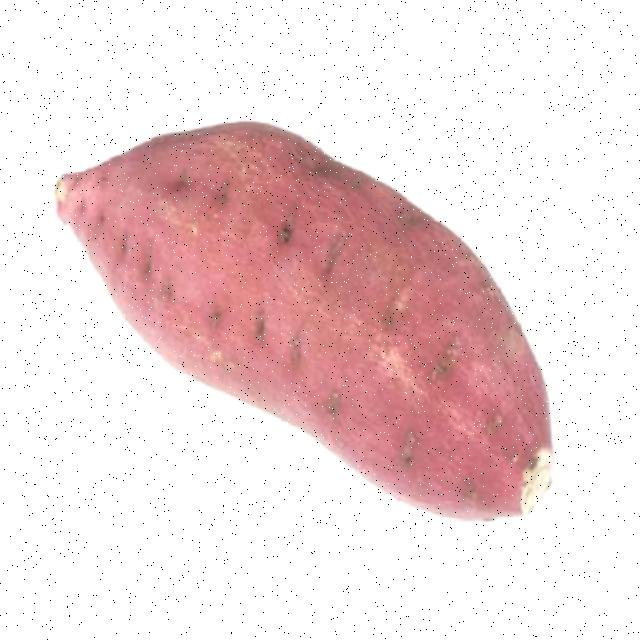Sweet Potato: (35, 91, 583, 552)
